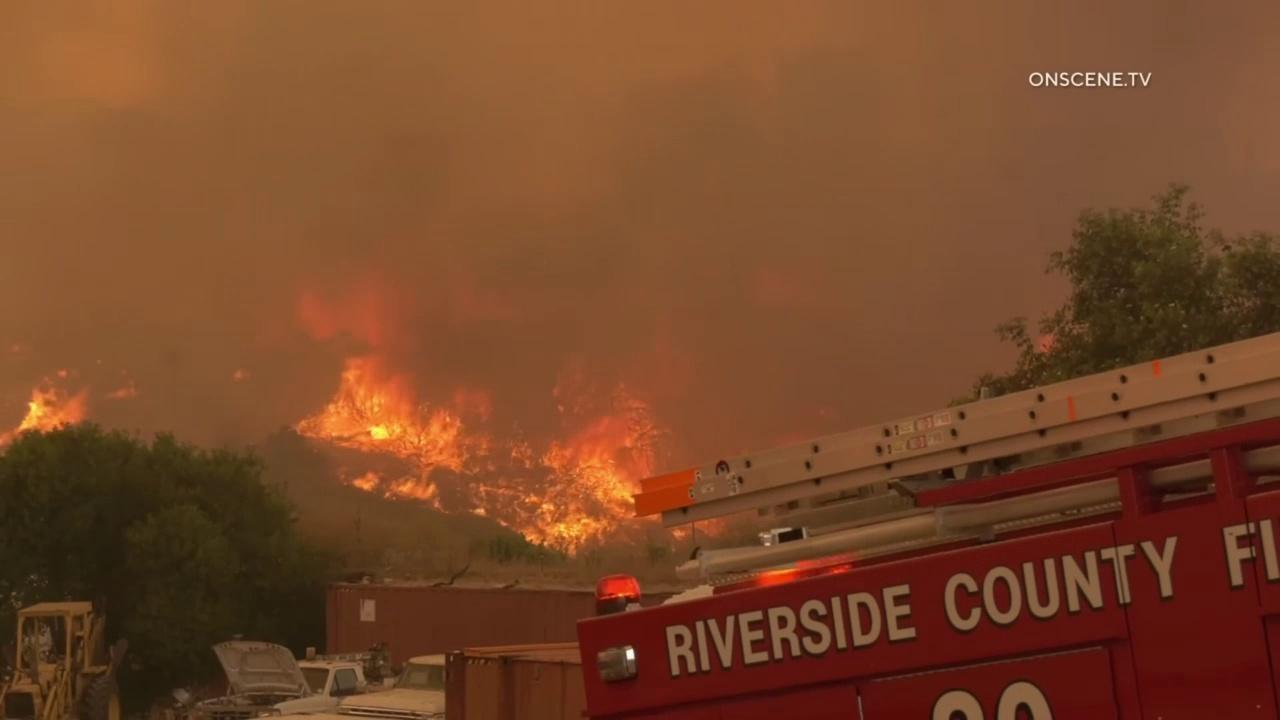fire: (284, 264, 727, 558), (0, 369, 93, 450), (100, 381, 143, 400), (231, 365, 255, 381)
smoke: (0, 0, 1280, 525)
